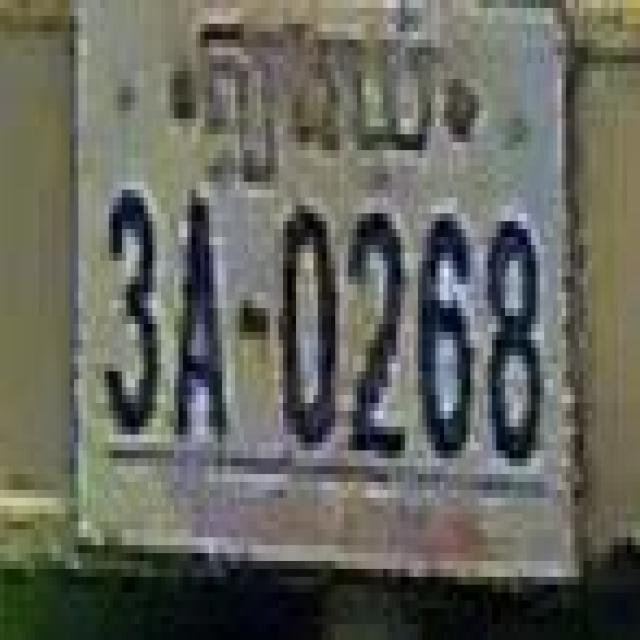Tboung_Khmum: (196, 8, 442, 190)
